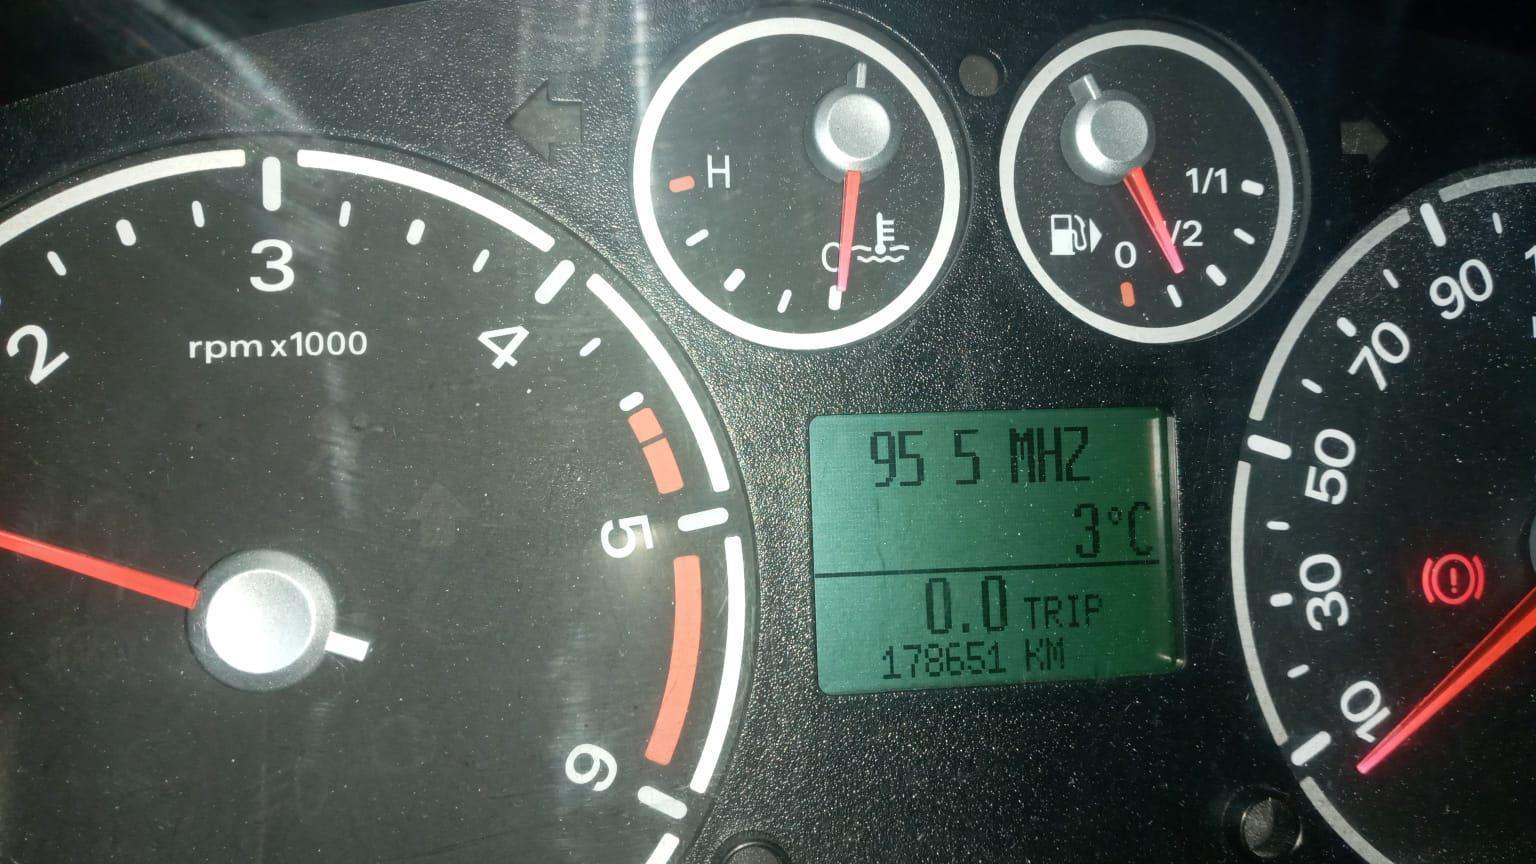,: (960, 622, 971, 635)
0: (922, 576, 953, 635), (979, 574, 1009, 633)
1: (879, 645, 902, 679), (987, 641, 1007, 673)
3: (1073, 501, 1100, 557)
5: (952, 429, 981, 485), (897, 430, 925, 487), (966, 641, 985, 674)
6: (945, 641, 964, 675)
7: (903, 644, 921, 677)
8: (924, 644, 943, 677)
9: (869, 430, 896, 487)
X: (1007, 426, 1036, 484), (1063, 426, 1092, 482), (1126, 502, 1155, 555), (1036, 426, 1062, 482), (1043, 596, 1064, 630), (1022, 596, 1041, 631), (1047, 635, 1064, 671), (1025, 638, 1044, 672), (1084, 594, 1102, 628), (1067, 594, 1079, 627)
odometer: (804, 400, 1188, 698)
